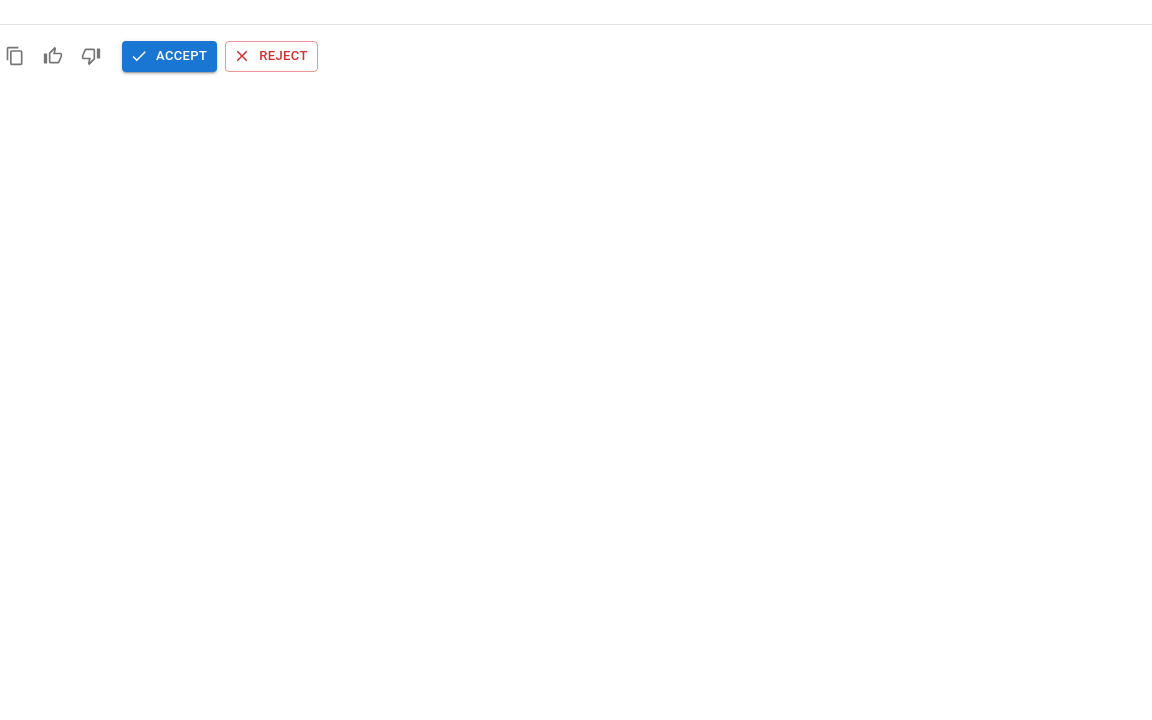
Test: FeedbackControls › Thumbs Up/Down Functionality › should toggle thumbs up state when clicked
# Click thumbs up
Click the button named "Helpful".
click(53, 56)  # box [38,41,68,72]
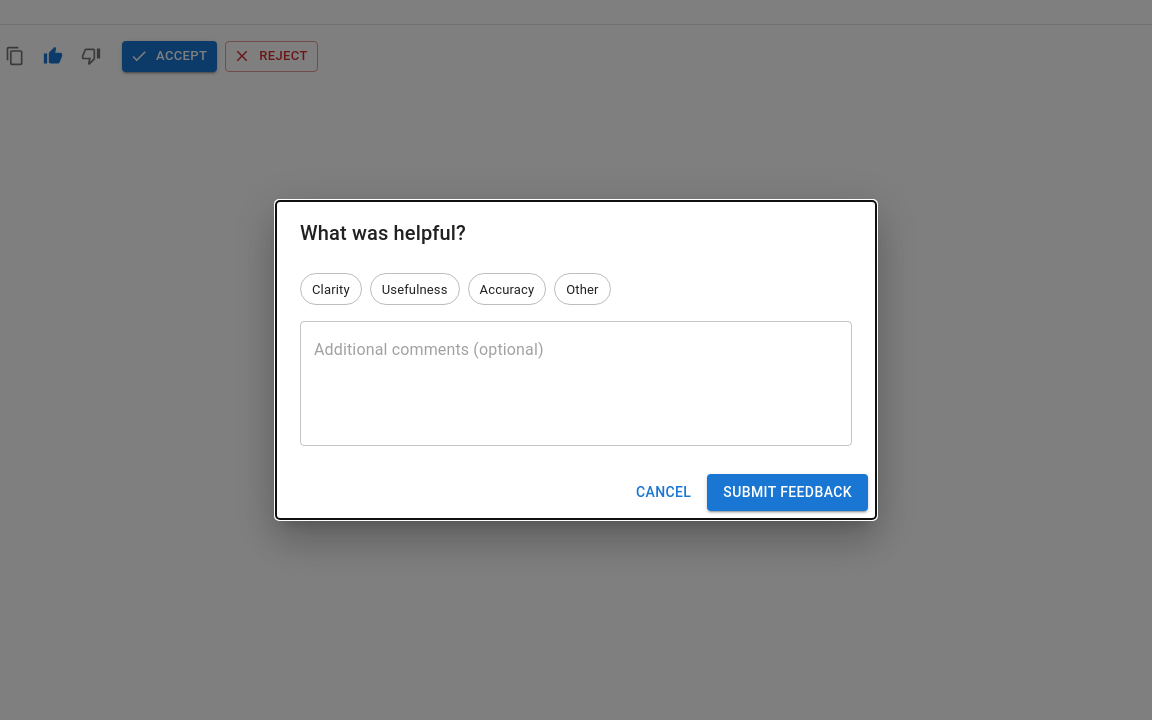
Result: the heading "What was helpful?" is shown at [300,221,466,245]
